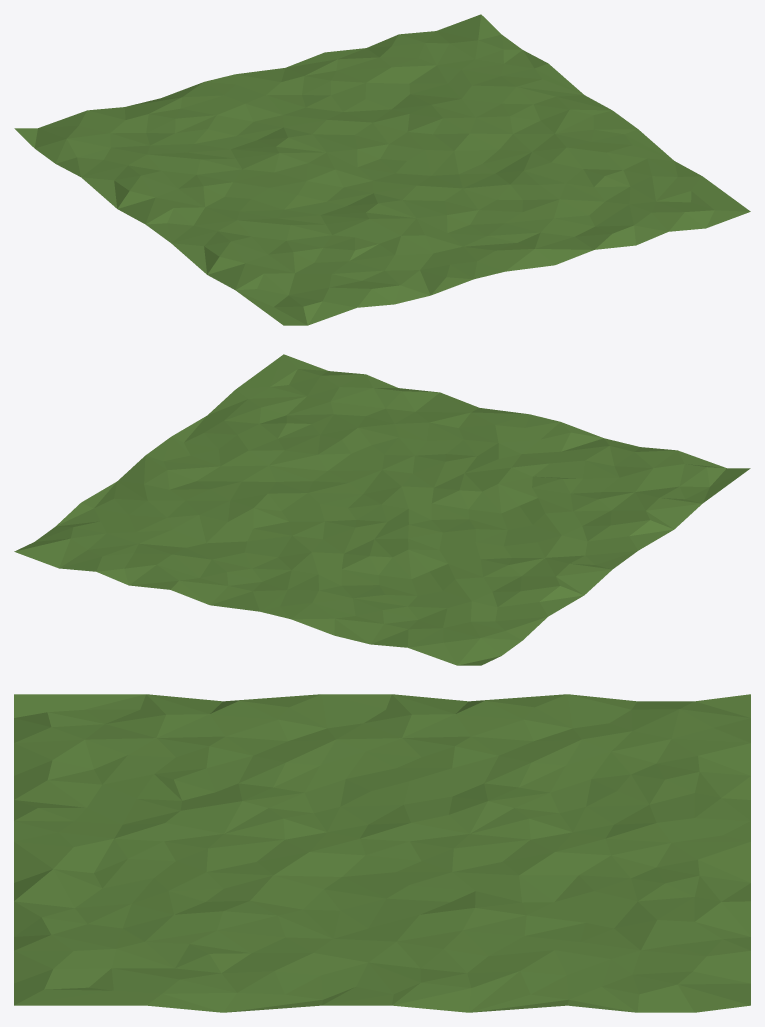
The model's file is ZLP_Ground_B_1.FBX.
3 renders of one model, top to bottom at view 1: azimuth 30°, elevation 25°; view 2: azimuth 150°, elevation 25°; view 3: azimuth 270°, elevation 25°, orthographic. The views are drawn at different scales.
Parts seen in each view (by area): view 1: ZLP_Ground_B_1; view 2: ZLP_Ground_B_1; view 3: ZLP_Ground_B_1.
Boxes of the visible parts, left/top/right/bottom form: ZLP_Ground_B_1: left=14, top=14, right=750, bottom=325; ZLP_Ground_B_1: left=14, top=354, right=750, bottom=665; ZLP_Ground_B_1: left=14, top=694, right=750, bottom=1012.
Size of the model in its own units: 600 by 12.36 by 600.
